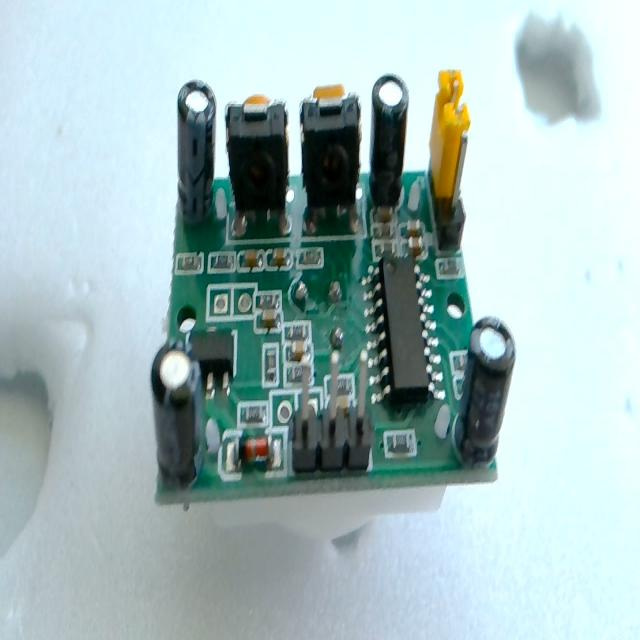Electrolytic capacitor: (455, 317, 517, 468), (150, 341, 203, 488), (368, 74, 410, 212), (177, 80, 217, 223)
IC: (364, 252, 442, 404)
pinheader: (291, 350, 373, 473)
